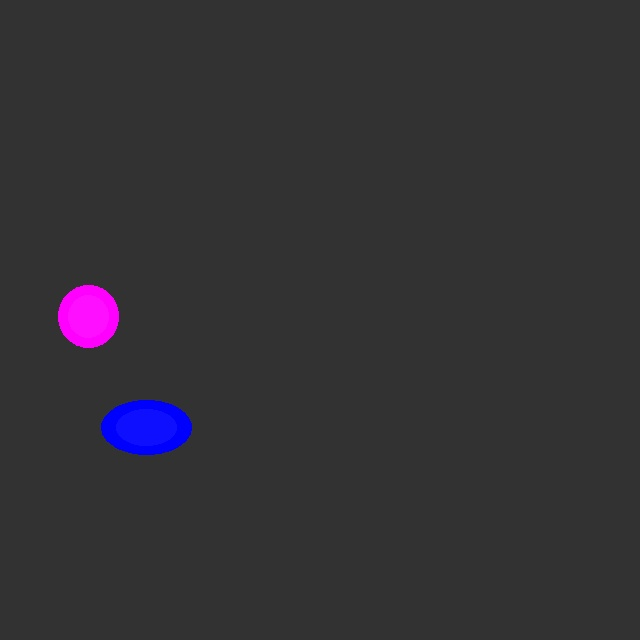fish: (101, 400, 191, 455), (58, 285, 118, 347)
